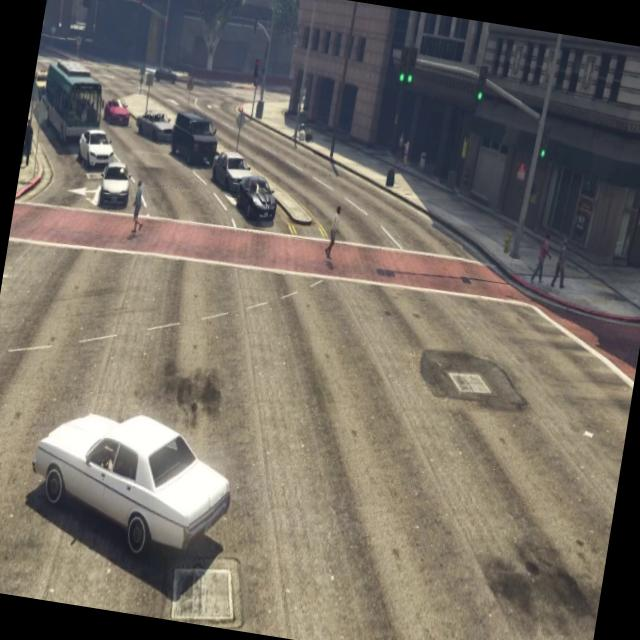Green-Signal: (392, 38, 424, 102), (469, 54, 495, 115), (534, 114, 556, 170)
